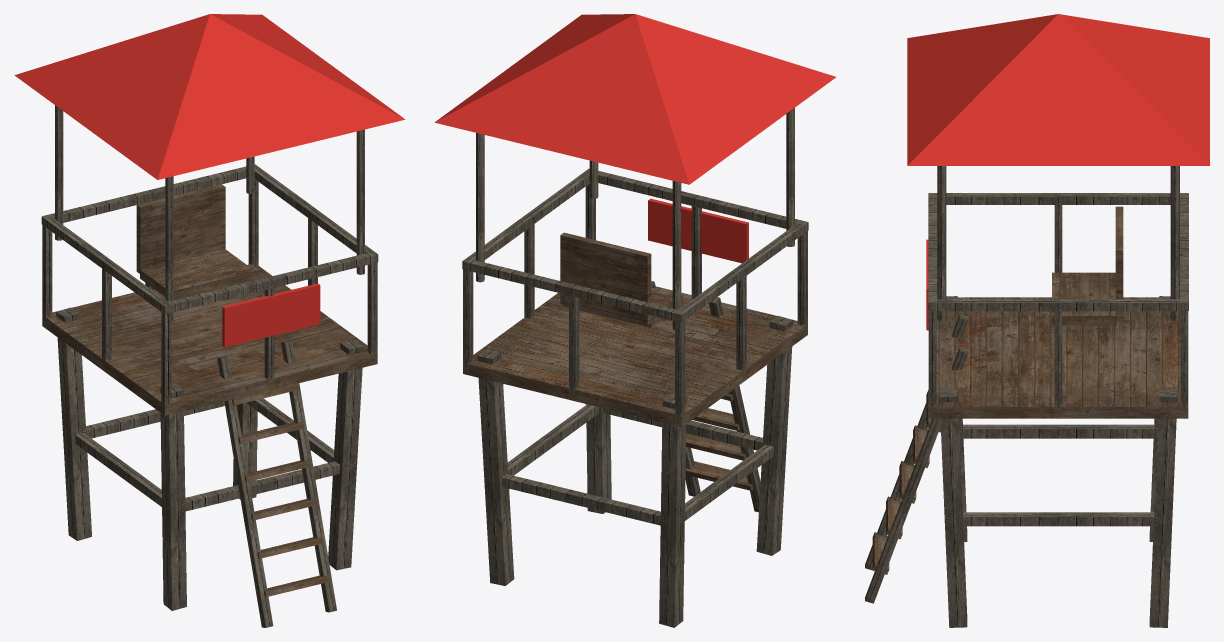
Rendered from lifeguard_tower.glb.
3 renders of one model, left to right at view 1: azimuth 30°, elevation 25°; view 2: azimuth 150°, elevation 25°; view 3: azimuth 270°, elevation 25°, orthographic. The views are drawn at different scales.
Visible parts, largest first — view 1: leg, roof, deck; view 2: leg, roof, deck; view 3: roof, leg, deck.
Boxes of the visible parts, left/top/right/bottom form: leg: left=41, top=105, right=378, bottom=627; roof: left=14, top=14, right=405, bottom=347; deck: left=42, top=184, right=377, bottom=597; leg: left=462, top=108, right=808, bottom=627; roof: left=434, top=14, right=836, bottom=263; deck: left=463, top=232, right=807, bottom=490; roof: left=907, top=14, right=1209, bottom=330; leg: left=865, top=166, right=1188, bottom=627; deck: left=872, top=206, right=1188, bottom=574.
Size of the model in its own units: 2.33 by 4.86 by 2.66.
Materials: 3 (2 with a texture image).
